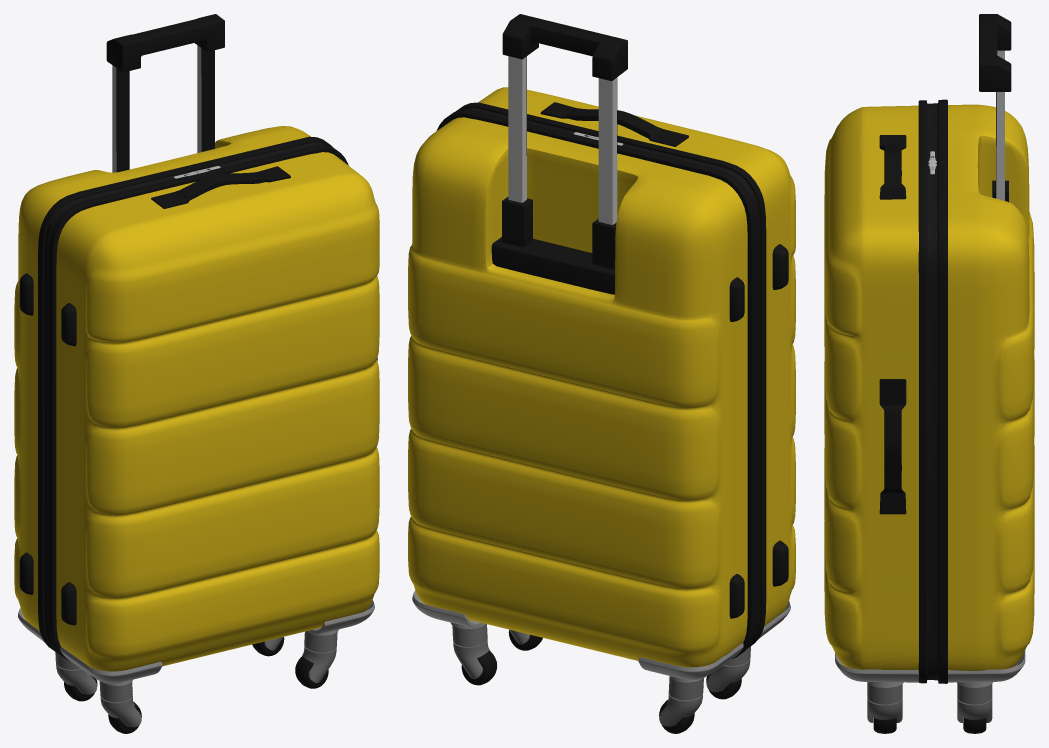
Rendered from trolley.glb.
3 views of the same model, side by side, from view 1: azimuth 30°, elevation 25°; view 2: azimuth 150°, elevation 25°; view 3: azimuth 270°, elevation 25° (orthographic). The views are drawn at different scales.
Visible parts, largest first — view 1: _gltfNode_2, _gltfNode_0, _gltfNode_4, _gltfNode_3, _gltfNode_5, _gltfNode_7, _gltfNode_1; view 2: _gltfNode_2, _gltfNode_0, _gltfNode_1, _gltfNode_4, _gltfNode_3, _gltfNode_5, _gltfNode_7; view 3: _gltfNode_2, _gltfNode_0, _gltfNode_7, _gltfNode_4, _gltfNode_3, _gltfNode_1, _gltfNode_5.
Part boxes in pixels (box(x1,y1,x2,y2)): _gltfNode_2: box(14, 126, 379, 671); _gltfNode_0: box(19, 14, 377, 660); _gltfNode_4: box(55, 631, 337, 727); _gltfNode_3: box(18, 600, 374, 685); _gltfNode_5: box(64, 637, 328, 733); _gltfNode_7: box(50, 142, 326, 225); _gltfNode_1: box(112, 45, 220, 178); _gltfNode_2: box(408, 87, 795, 667); _gltfNode_0: box(436, 14, 788, 658); _gltfNode_1: box(508, 56, 623, 224); _gltfNode_4: box(452, 620, 750, 726); _gltfNode_3: box(412, 590, 790, 682); _gltfNode_5: box(461, 630, 741, 733); _gltfNode_7: box(464, 107, 753, 195); _gltfNode_2: box(824, 104, 1034, 670); _gltfNode_0: box(879, 14, 1011, 683); _gltfNode_7: box(927, 103, 938, 680); _gltfNode_4: box(867, 683, 992, 722); _gltfNode_3: box(835, 650, 1025, 687); _gltfNode_1: box(928, 50, 1004, 200); _gltfNode_5: box(873, 717, 986, 733).
Size of the model in its own units: 0.2841 by 0.5579 by 0.1637.
